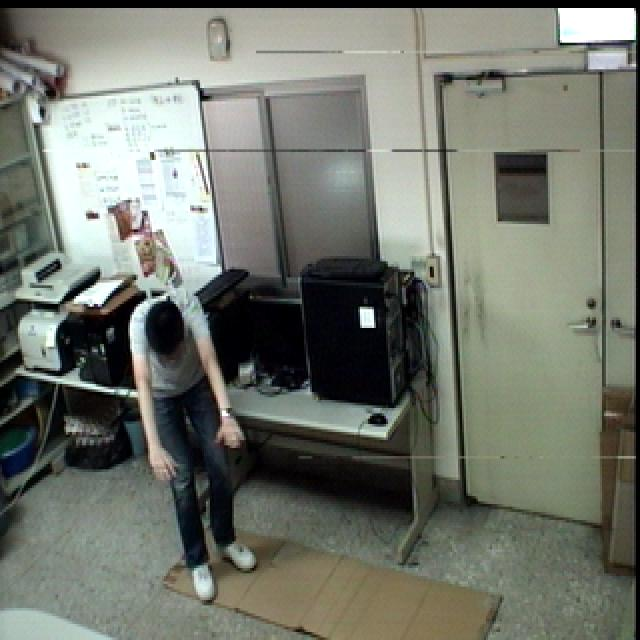bend: (124, 287, 270, 611)
